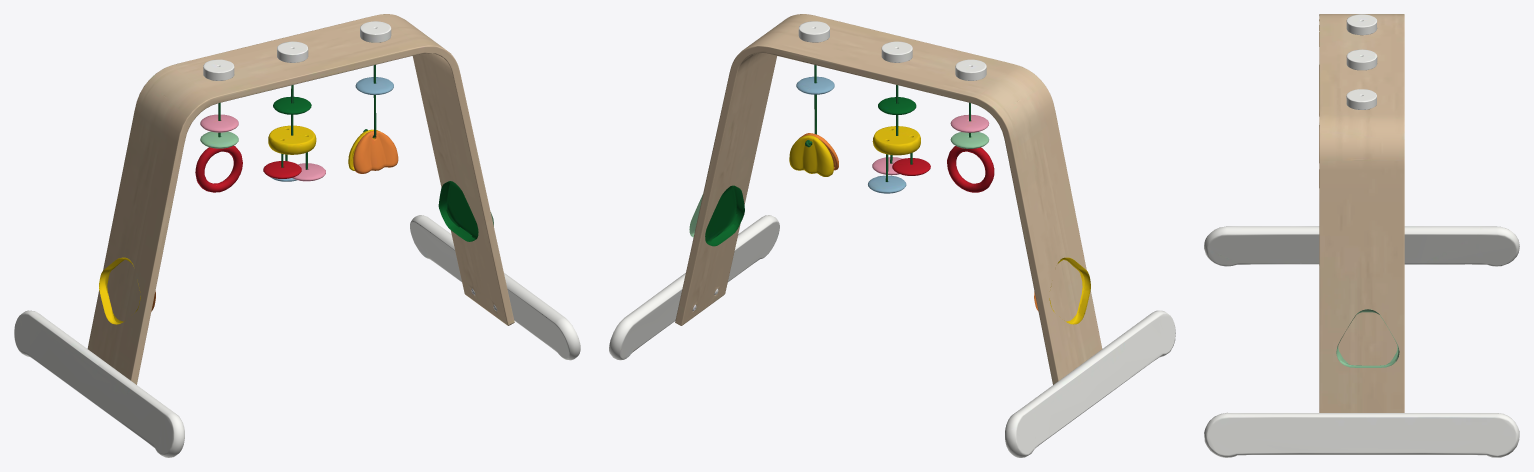
3 renders of one model, left to right at view 1: azimuth 30°, elevation 25°; view 2: azimuth 150°, elevation 25°; view 3: azimuth 270°, elevation 25°, orthographic. The views are drawn at different scales.
Visible parts, largest first — view 1: 200; view 2: 200; view 3: 200.
Part boxes in pixels (x1,y1,x2,y2): 200: [14, 14, 580, 457]; 200: [609, 14, 1175, 457]; 200: [1204, 14, 1519, 457].
Bounding box in the file's own units: 0.6022 × 0.4304 × 0.4061.
1 material, 1 textured.
